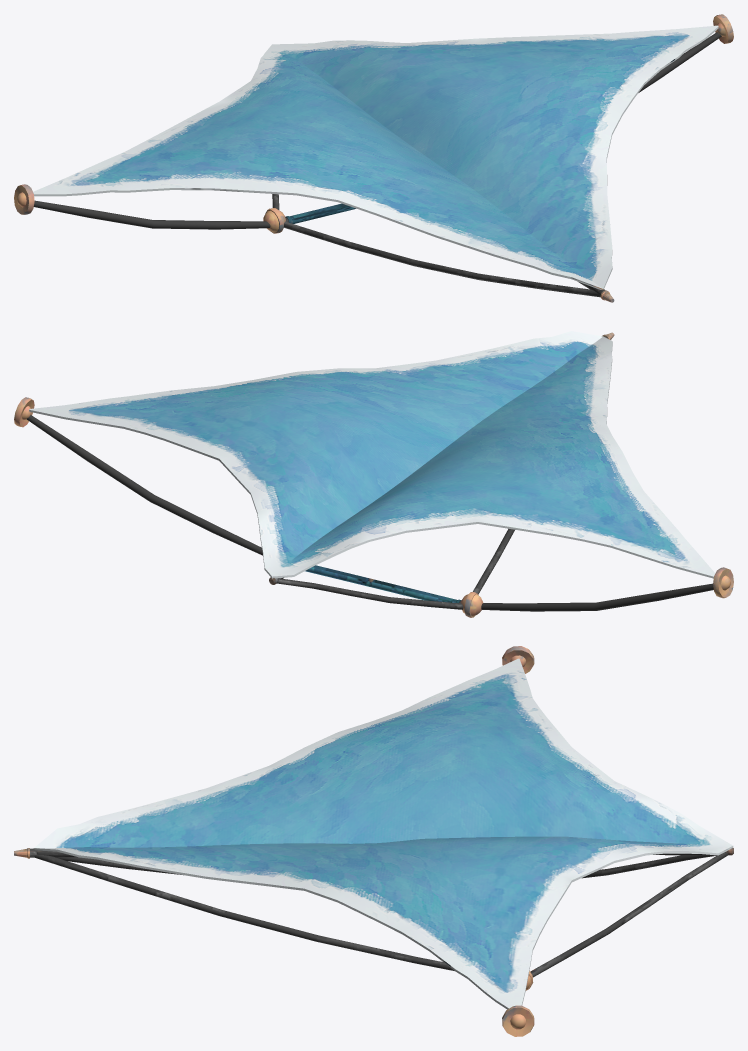
File: Glider_v1_Guilty.glb
3 views of the same model, one above another, from view 1: azimuth 30°, elevation 25°; view 2: azimuth 150°, elevation 25°; view 3: azimuth 270°, elevation 25° (orthographic). The views are drawn at different scales.
Visible parts, largest first — view 1: Glider; view 2: Glider; view 3: Glider.
Part boxes in pixels (x1,y1,x2,y2): Glider: [14, 14, 733, 302]; Glider: [14, 331, 733, 617]; Glider: [14, 646, 733, 1036].
Bounding box in the file's own units: 5.33 × 0.9494 × 4.42.
Materials: 1 (1 with a texture image).
